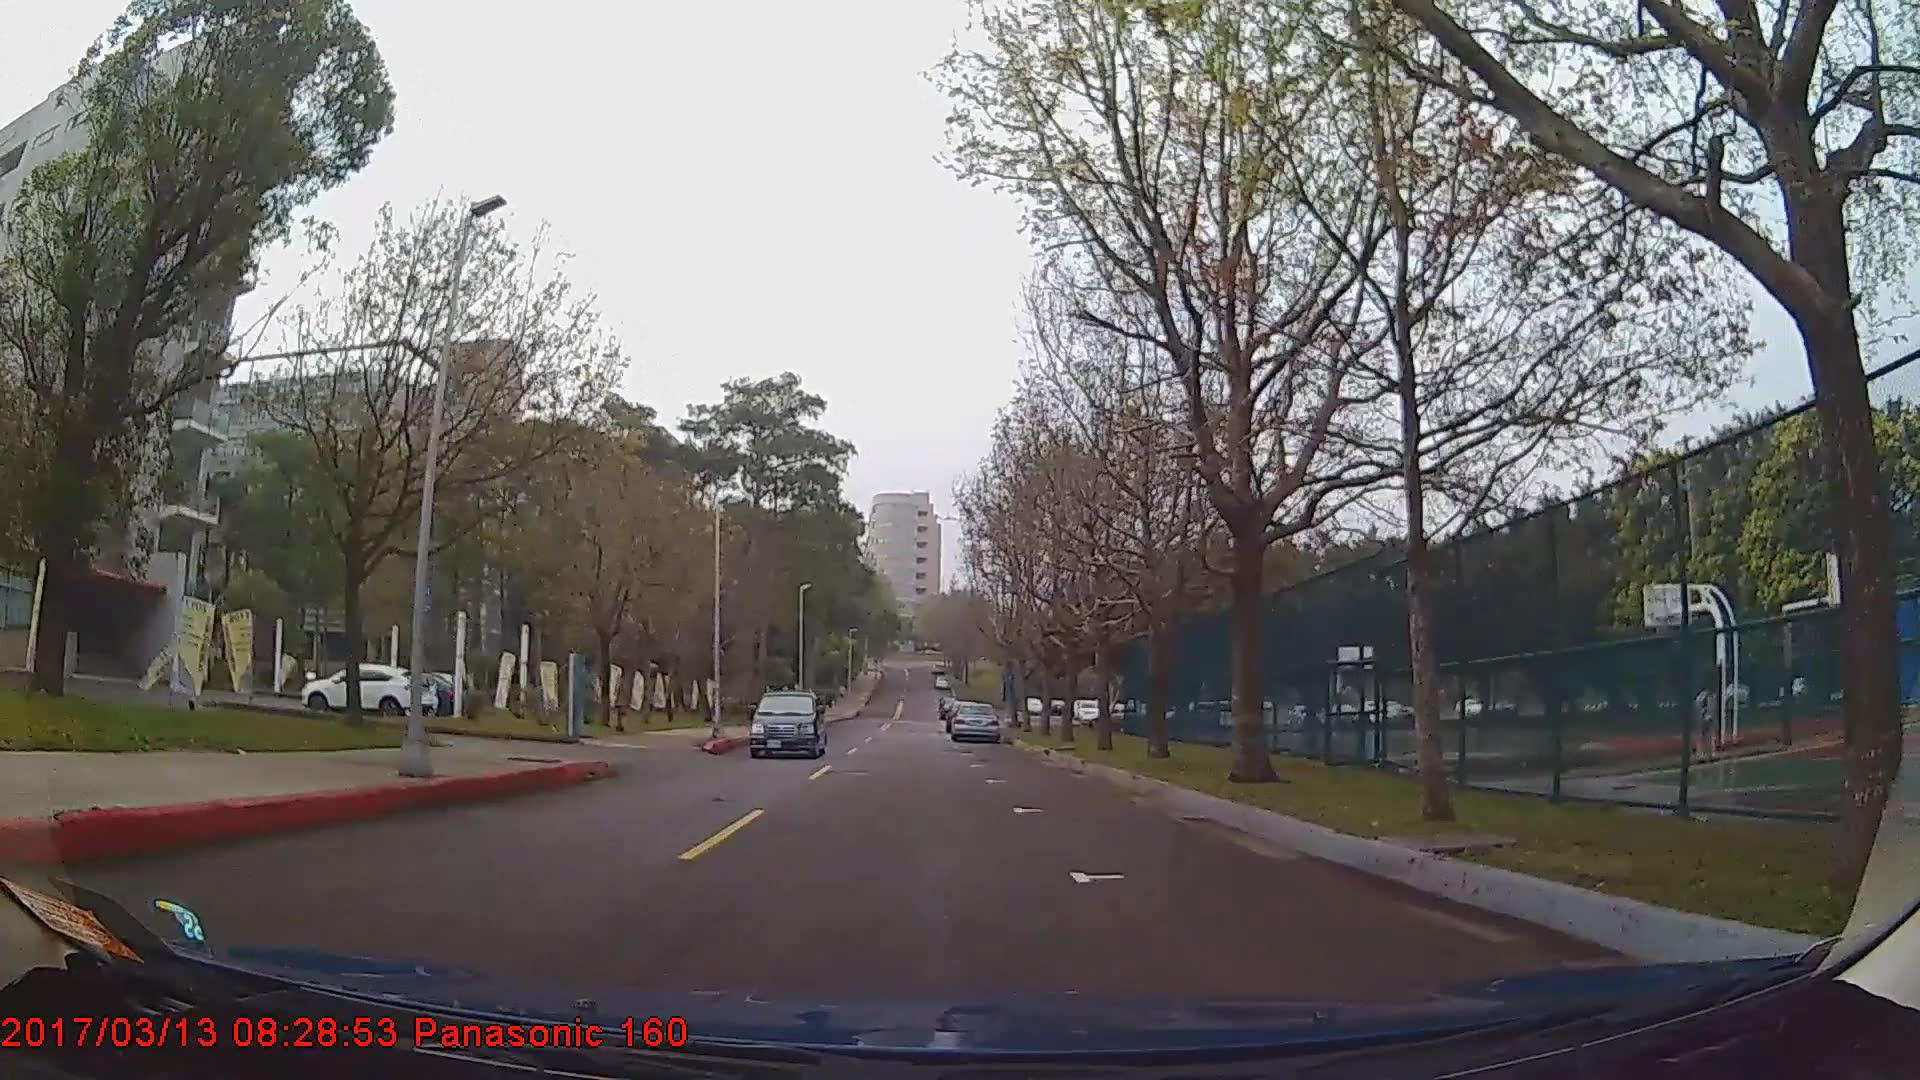vehicle: (299, 658, 434, 716), (746, 688, 827, 760), (949, 702, 1000, 744)
